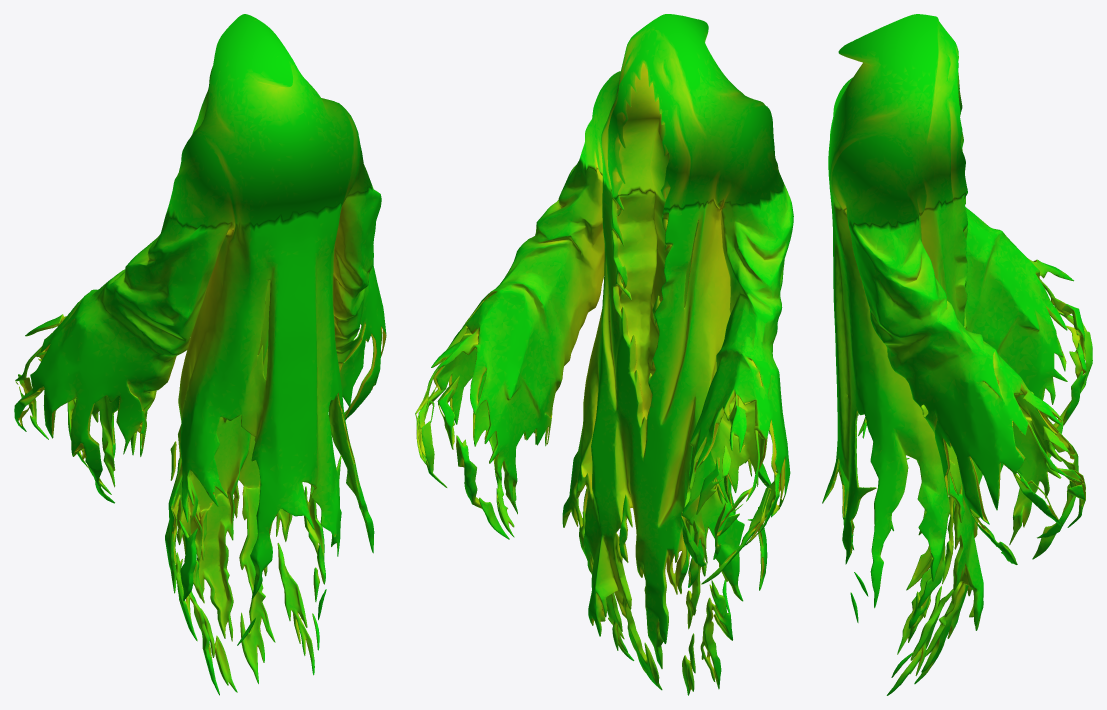
Rendered from CryptWraith.fbx.
The picture shows the model from 3 angles, left to right: view 1: azimuth 30°, elevation 25°; view 2: azimuth 150°, elevation 25°; view 3: azimuth 270°, elevation 25°; orthographic projection.
Visible parts, largest first — view 1: geometry_0; view 2: geometry_0; view 3: geometry_0.
Part boxes in pixels (bbox=[...]): geometry_0: bbox=[14, 14, 386, 695]; geometry_0: bbox=[415, 14, 793, 695]; geometry_0: bbox=[822, 14, 1092, 695].
Size of the model in its own units: 105 by 190 by 69.69.
